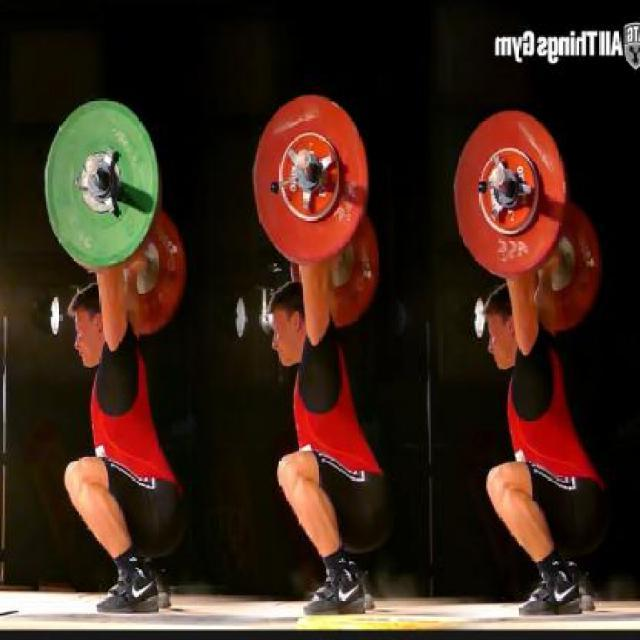Barbell: (488, 162, 508, 190), (82, 150, 100, 179), (295, 145, 313, 170)
